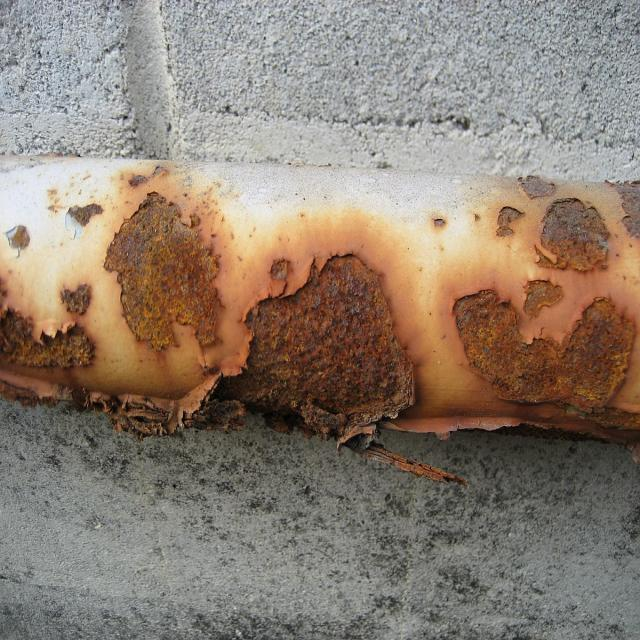corrosion: (0, 159, 640, 486)
